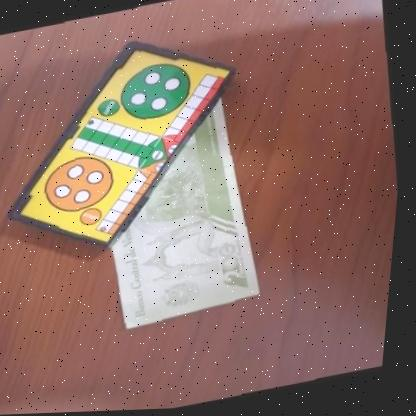vef_back: (86, 87, 282, 334)
